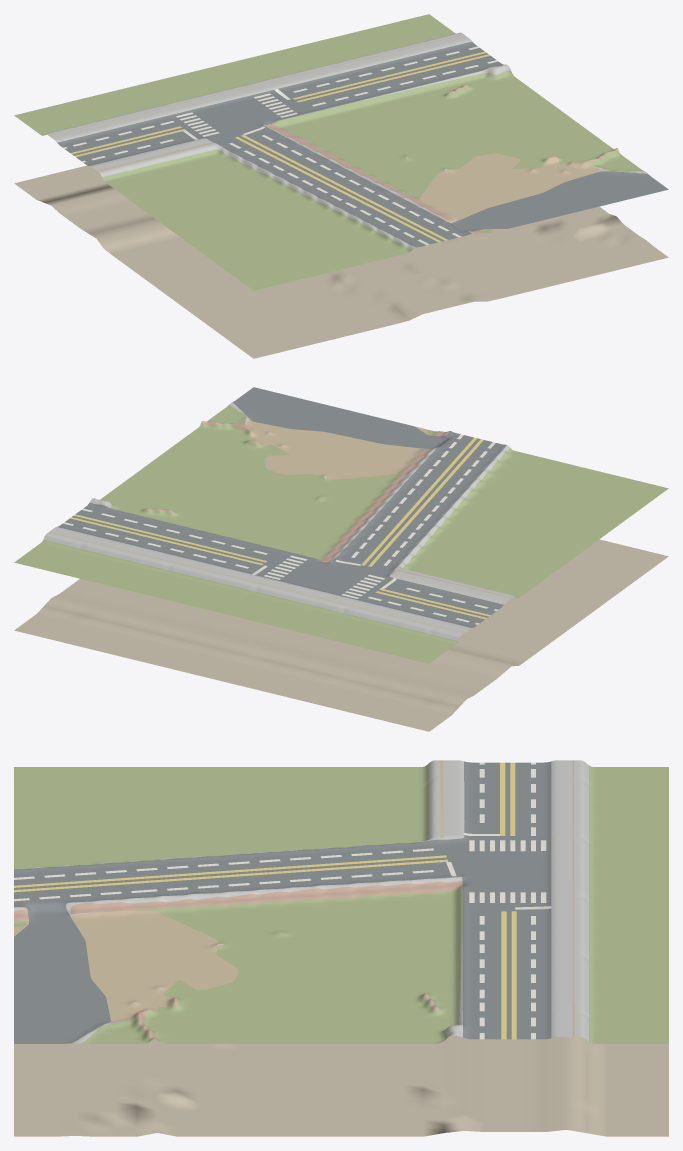
The picture shows the model from 3 angles, top to bottom: view 1: azimuth 30°, elevation 25°; view 2: azimuth 150°, elevation 25°; view 3: azimuth 270°, elevation 25°; orthographic projection. The views are drawn at different scales.
Parts seen in each view (by area): view 1: s_-8_-6__grass, s_-8_-6__soil, s_-8_-6__asphalt, s_-8_-6__stone_paving, s_-8_-6__timber_deck, s_-8_-6__yellow_marking, s_-8_-6__white_marking, s_-8_-6__brick_paving; view 2: s_-8_-6__grass, s_-8_-6__soil, s_-8_-6__asphalt, s_-8_-6__stone_paving, s_-8_-6__timber_deck, s_-8_-6__yellow_marking, s_-8_-6__white_marking, s_-8_-6__brick_paving; view 3: s_-8_-6__grass, s_-8_-6__soil, s_-8_-6__asphalt, s_-8_-6__stone_paving, s_-8_-6__timber_deck, s_-8_-6__yellow_marking, s_-8_-6__white_marking, s_-8_-6__brick_paving.
Boxes of the visible parts, left/top/right/bottom form: s_-8_-6__grass: left=14, top=14, right=643, bottom=290; s_-8_-6__soil: left=14, top=143, right=668, bottom=358; s_-8_-6__asphalt: left=57, top=41, right=668, bottom=247; s_-8_-6__stone_paving: left=45, top=32, right=647, bottom=249; s_-8_-6__timber_deck: left=49, top=34, right=603, bottom=232; s_-8_-6__yellow_marking: left=70, top=51, right=489, bottom=242; s_-8_-6__white_marking: left=63, top=46, right=497, bottom=245; s_-8_-6__brick_paving: left=266, top=84, right=618, bottom=234; s_-8_-6__grass: left=14, top=404, right=668, bottom=663; s_-8_-6__soil: left=14, top=472, right=668, bottom=731; s_-8_-6__asphalt: left=57, top=387, right=506, bottom=627; s_-8_-6__stone_paving: left=43, top=402, right=514, bottom=640; s_-8_-6__timber_deck: left=49, top=419, right=512, bottom=633; s_-8_-6__yellow_marking: left=70, top=437, right=490, bottom=619; s_-8_-6__white_marking: left=63, top=434, right=498, bottom=624; s_-8_-6__brick_paving: left=144, top=421, right=448, bottom=562; s_-8_-6__grass: left=14, top=764, right=668, bottom=1043; s_-8_-6__soil: left=14, top=877, right=668, bottom=1136; s_-8_-6__asphalt: left=14, top=761, right=551, bottom=1043; s_-8_-6__stone_paving: left=14, top=760, right=588, bottom=1043; s_-8_-6__timber_deck: left=14, top=760, right=574, bottom=1036; s_-8_-6__yellow_marking: left=14, top=762, right=516, bottom=1039; s_-8_-6__white_marking: left=14, top=762, right=551, bottom=1039; s_-8_-6__brick_paving: left=14, top=881, right=462, bottom=1039.
Size of the model in its own units: 128 by 21.99 by 128.
